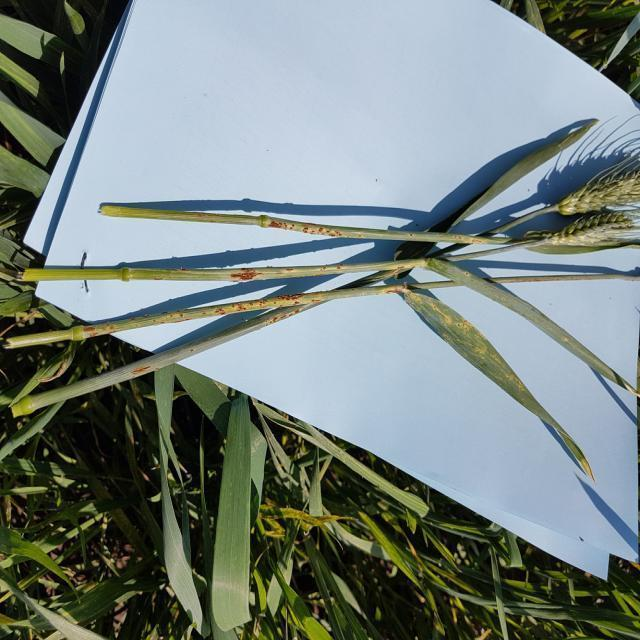Stem Rust: (231, 208, 345, 325)
